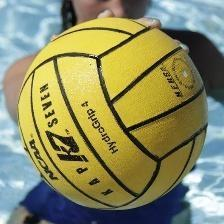Sports-Ball: (17, 18, 207, 210)
